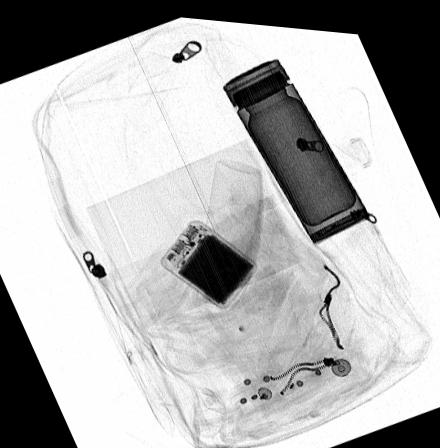Powerbank: (159, 217, 259, 304)
